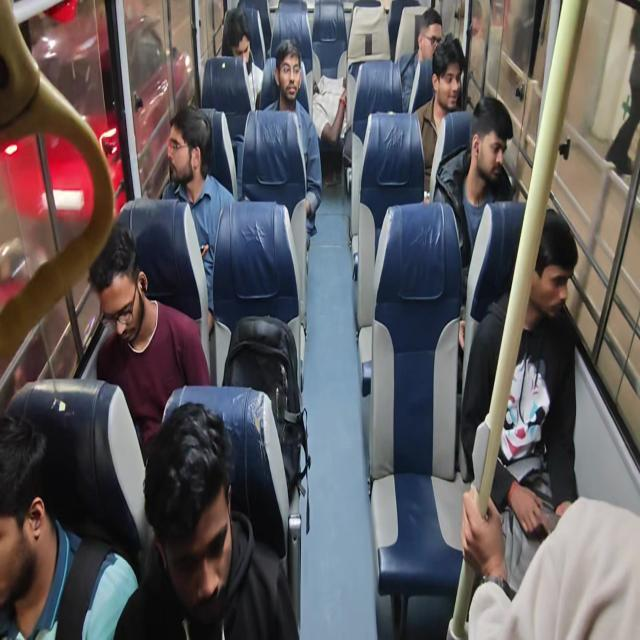person: (162, 420, 246, 620), (0, 437, 60, 610), (88, 242, 141, 341), (171, 112, 209, 185), (472, 106, 506, 178), (530, 231, 562, 306), (443, 49, 467, 110), (274, 45, 303, 92), (223, 39, 251, 65), (418, 4, 437, 42)
